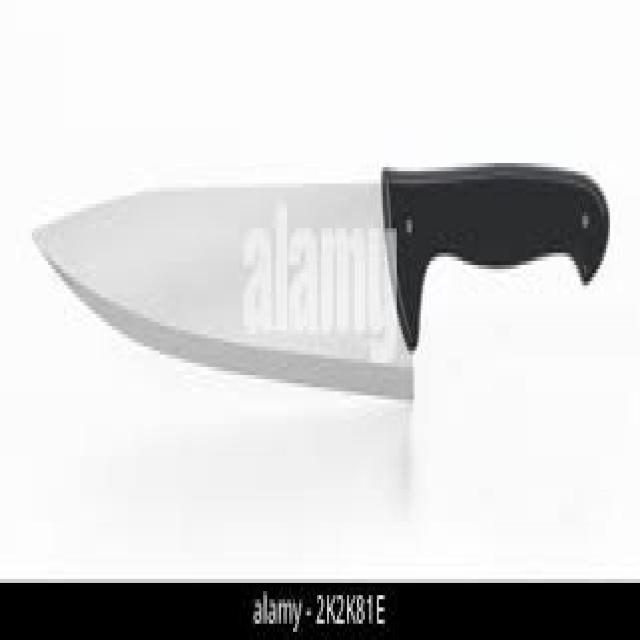Knife: (30, 159, 608, 399)
